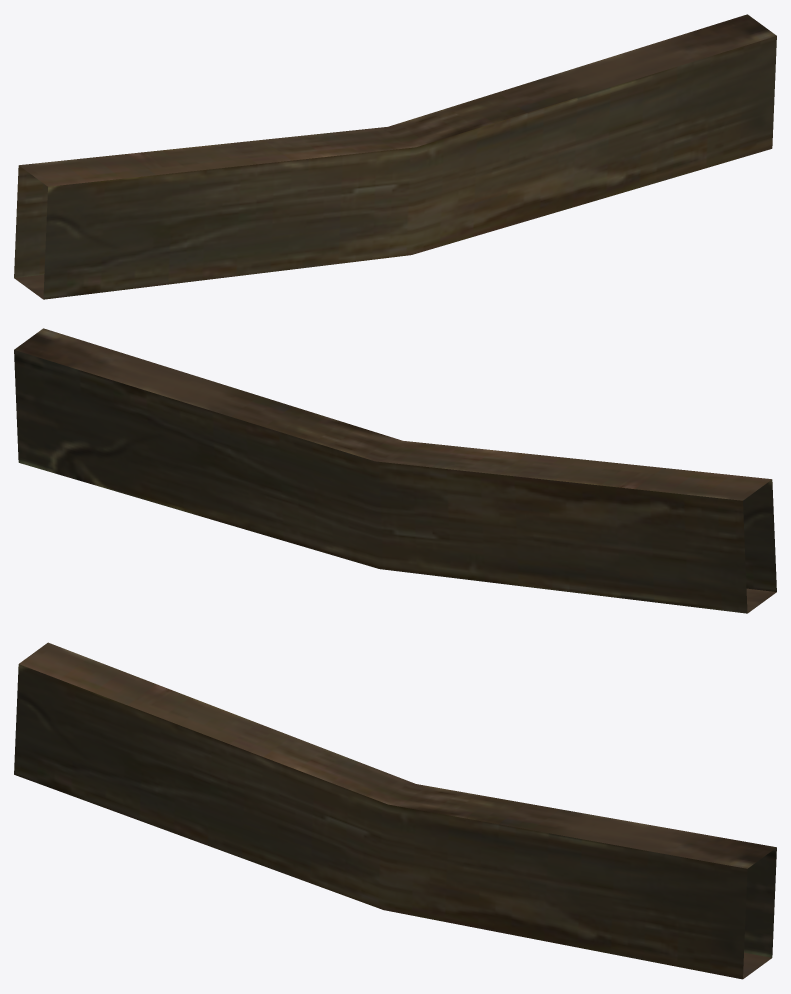
Rendered from Z_mutiao003.fbx.
3 renders of one model, top to bottom at view 1: azimuth 30°, elevation 25°; view 2: azimuth 150°, elevation 25°; view 3: azimuth 330°, elevation 25°, orthographic.
Parts seen in each view (by area): view 1: Z_mutiao003; view 2: Z_mutiao003; view 3: Z_mutiao003.
Boxes of the visible parts, box(x1,y1,x2,y2) form: Z_mutiao003: box(14, 14, 776, 299); Z_mutiao003: box(14, 328, 776, 613); Z_mutiao003: box(14, 642, 776, 979).
Size of the model in its own units: 137 by 28.12 by 9.52.
